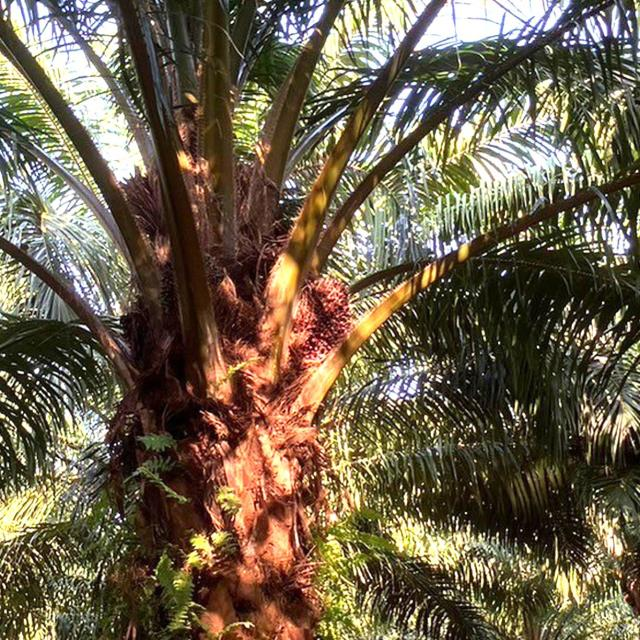ripe: (286, 265, 362, 376)
